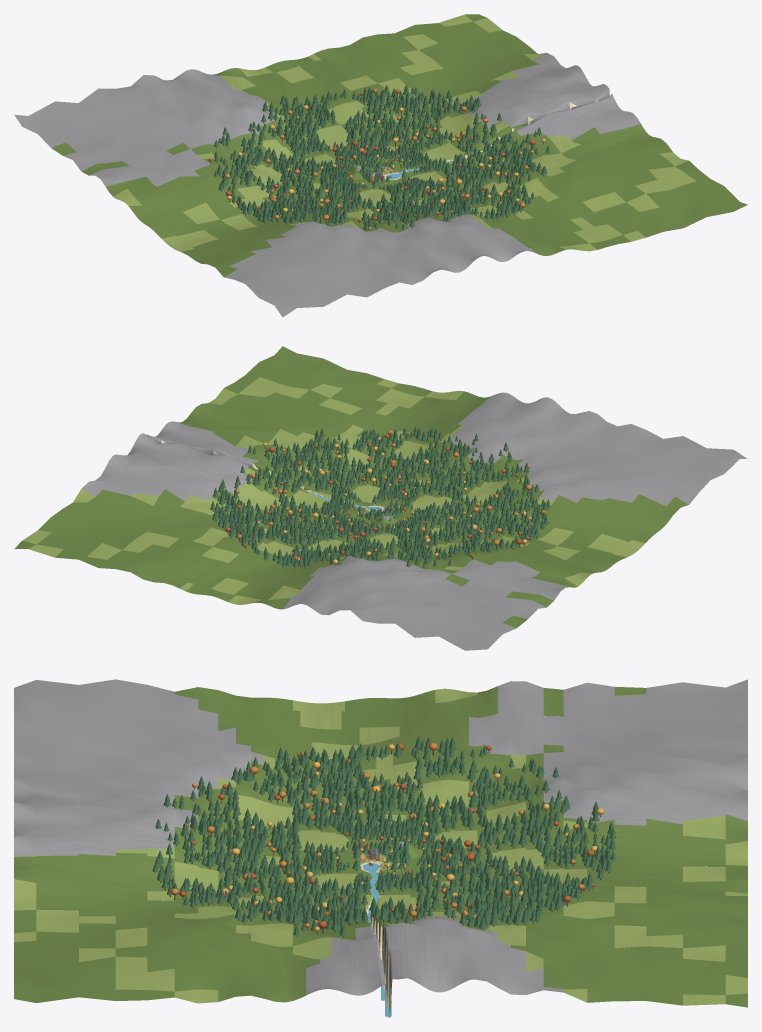
Rendered from forest.glb.
The picture shows the model from 3 angles, top to bottom: view 1: azimuth 30°, elevation 25°; view 2: azimuth 150°, elevation 25°; view 3: azimuth 270°, elevation 25°; orthographic projection. The views are drawn at different scales.
Parts seen in each view (by area): view 1: far_ground, far_trees_pine_distant, far_trees_pine, far_trees_trunk_distant, far_trees_leaf_red_distant, far_trees_leaf_orange_distant, far_trees_leaf_rust_distant; view 2: far_ground, far_trees_pine_distant, far_trees_trunk_distant, far_trees_pine, far_trees_leaf_red_distant, far_trees_leaf_rust_distant, far_trees_leaf_orange_distant; view 3: far_ground, far_trees_pine_distant, far_trees_pine, far_trees_trunk_distant, far_trees_leaf_red_distant, far_trees_leaf_orange_distant, far_trees_leaf_rust_distant, static.
Part boxes in pixels (x1=…): far_ground: x1=14, y1=14, x2=747, y2=317; far_trees_pine_distant: x1=214, y1=85, x2=550, y2=230; far_trees_pine: x1=338, y1=149, x2=424, y2=191; far_trees_trunk_distant: x1=210, y1=93, x2=548, y2=231; far_trees_leaf_red_distant: x1=225, y1=89, x2=533, y2=229; far_trees_leaf_orange_distant: x1=227, y1=104, x2=545, y2=213; far_trees_leaf_rust_distant: x1=208, y1=89, x2=535, y2=221; far_ground: x1=14, y1=346, x2=747, y2=650; far_trees_pine_distant: x1=210, y1=426, x2=550, y2=568; far_trees_trunk_distant: x1=212, y1=436, x2=548, y2=568; far_trees_pine: x1=336, y1=488, x2=423, y2=530; far_trees_leaf_red_distant: x1=234, y1=430, x2=546, y2=557; far_trees_leaf_rust_distant: x1=225, y1=434, x2=529, y2=560; far_trees_leaf_orange_distant: x1=255, y1=437, x2=531, y2=564; far_ground: x1=14, y1=679, x2=747, y2=1017; far_trees_pine_distant: x1=152, y1=736, x2=616, y2=935; far_trees_pine: x1=320, y1=824, x2=441, y2=882; far_trees_trunk_distant: x1=155, y1=749, x2=613, y2=937; far_trees_leaf_red_distant: x1=170, y1=743, x2=584, y2=927; far_trees_leaf_orange_distant: x1=197, y1=744, x2=603, y2=931; far_trees_leaf_rust_distant: x1=180, y1=743, x2=595, y2=928; static: x1=354, y1=841, x2=407, y2=872.
Bounding box in the file's own units: 220 × 16.42 × 220.
